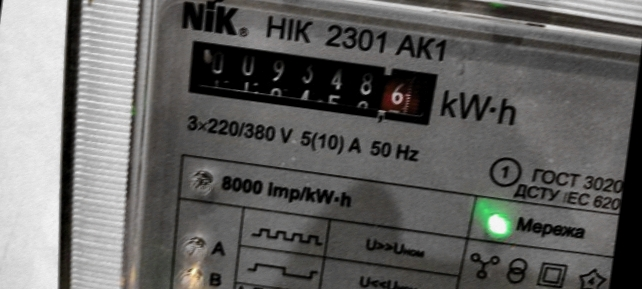0: (207, 48, 227, 76), (238, 49, 256, 77)
3: (299, 59, 316, 85)
4: (325, 60, 347, 92)
6: (387, 77, 407, 108)
8: (357, 68, 375, 97)
9: (269, 57, 286, 85)
screen: (166, 23, 452, 138)
